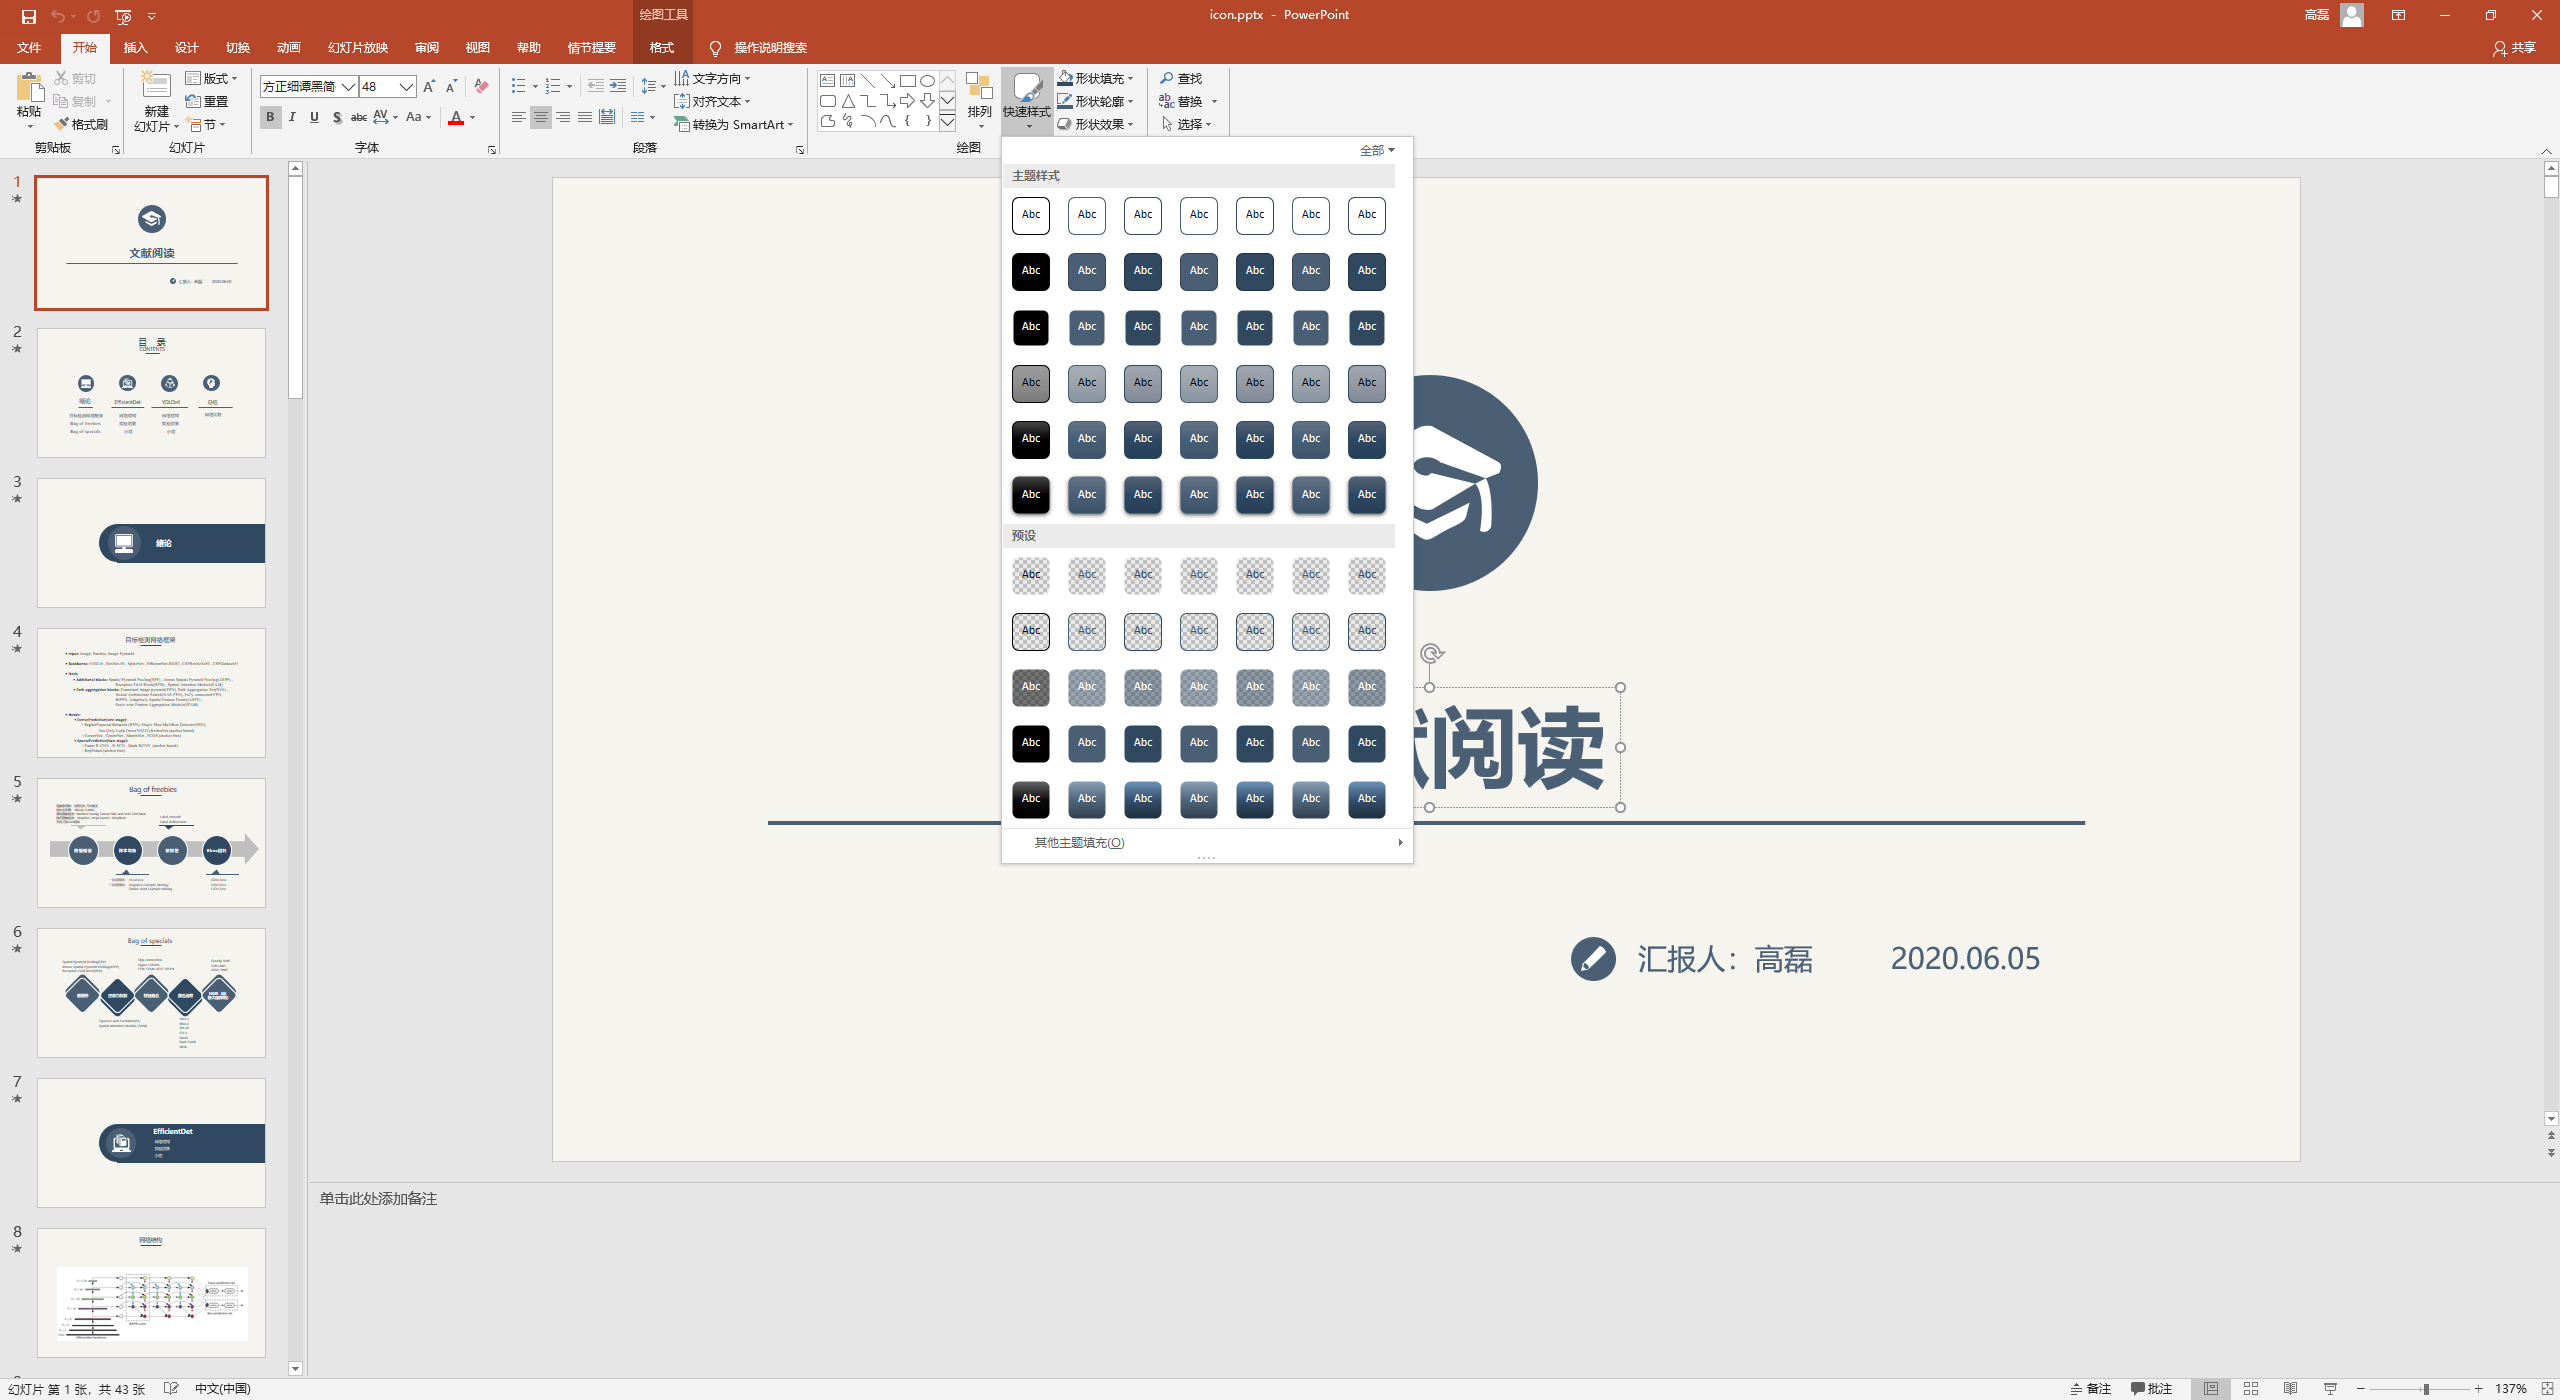character: (1634, 941, 1819, 978), (1884, 940, 2058, 976), (1207, 5, 1357, 24), (5, 1379, 150, 1398), (317, 1186, 440, 1207), (1033, 834, 1127, 852), (733, 36, 814, 55), (695, 117, 784, 133), (326, 40, 393, 59), (262, 79, 333, 97), (195, 1379, 259, 1398), (133, 105, 169, 133), (565, 36, 617, 55), (641, 3, 688, 24), (1008, 166, 1060, 183), (510, 36, 548, 59), (1076, 71, 1122, 86), (1077, 95, 1124, 109), (352, 140, 384, 159), (1002, 105, 1052, 117), (646, 38, 677, 57), (33, 140, 71, 155), (693, 72, 740, 84), (1076, 117, 1122, 129), (695, 95, 740, 107), (276, 36, 303, 55), (1010, 526, 1036, 545), (171, 41, 202, 57), (222, 40, 253, 55), (414, 40, 445, 55), (629, 140, 659, 155), (2494, 1381, 2527, 1395), (71, 91, 97, 109), (2305, 5, 2331, 22), (167, 141, 203, 153), (955, 140, 983, 155), (465, 40, 491, 55), (1177, 71, 1203, 86), (2148, 1383, 2176, 1397), (72, 121, 109, 131), (1177, 117, 1202, 133), (2513, 40, 2538, 55), (2088, 1381, 2112, 1397), (14, 41, 43, 53), (121, 41, 148, 53), (1177, 95, 1202, 109), (72, 41, 98, 53), (1358, 145, 1384, 157), (203, 71, 226, 84), (72, 72, 97, 84), (205, 95, 228, 107), (16, 105, 41, 116), (967, 105, 991, 116), (10, 621, 26, 636), (10, 924, 26, 938), (362, 81, 379, 93), (405, 110, 421, 122), (12, 772, 24, 788), (12, 472, 22, 490), (10, 324, 24, 336), (10, 1224, 22, 1238), (12, 1072, 22, 1088), (10, 176, 24, 186), (207, 117, 215, 129)
icon: (36, 624, 271, 753), (36, 779, 271, 909), (36, 926, 271, 1055), (29, 1229, 264, 1359), (34, 476, 267, 605), (36, 1078, 271, 1205), (34, 178, 267, 305), (34, 328, 267, 455), (1410, 428, 1500, 545), (1286, 471, 1334, 521), (1229, 472, 1279, 521), (1341, 472, 1389, 521), (1172, 472, 1221, 521), (1119, 472, 1165, 521), (1064, 472, 1110, 521), (1288, 776, 1334, 822), (1008, 474, 1053, 521), (1064, 778, 1110, 822), (1119, 778, 1165, 822), (1231, 778, 1277, 822), (1343, 360, 1388, 405), (1233, 360, 1277, 405), (1121, 360, 1165, 405), (1288, 609, 1333, 653), (1176, 609, 1221, 653), (1233, 609, 1277, 653), (1065, 721, 1110, 766), (1343, 778, 1388, 822), (1176, 778, 1221, 822), (1289, 360, 1333, 405), (1177, 360, 1221, 405), (1064, 360, 1108, 403), (1008, 553, 1053, 597), (1343, 666, 1388, 709), (1065, 609, 1108, 653), (1343, 722, 1388, 766), (1233, 666, 1277, 709), (1121, 609, 1164, 653), (1343, 553, 1388, 597), (1121, 722, 1165, 766), (1064, 666, 1108, 709), (1233, 722, 1277, 766), (1288, 553, 1333, 597), (1121, 666, 1165, 709), (1233, 553, 1277, 597), (1064, 553, 1108, 597), (1176, 553, 1221, 597), (1010, 610, 1053, 653), (1345, 610, 1388, 653), (1289, 666, 1333, 709), (1177, 666, 1221, 709), (1177, 722, 1221, 766), (1289, 722, 1333, 766), (1345, 417, 1388, 460), (1177, 417, 1221, 460), (1289, 417, 1333, 460), (1121, 553, 1164, 597), (1064, 195, 1108, 236), (1008, 667, 1053, 709), (1121, 417, 1165, 459), (1008, 195, 1052, 236), (1010, 362, 1053, 403), (1289, 195, 1333, 236), (1345, 195, 1388, 236), (1233, 195, 1276, 236), (1176, 195, 1219, 236), (1121, 195, 1164, 236), (1233, 419, 1276, 460), (1065, 417, 1108, 459), (1010, 779, 1053, 821), (1233, 309, 1277, 348), (1010, 722, 1052, 764), (1289, 309, 1333, 348), (1065, 252, 1108, 291), (1121, 252, 1164, 291), (1008, 724, 1052, 764), (1231, 253, 1276, 291), (1345, 309, 1386, 348), (1122, 309, 1164, 348), (1345, 252, 1386, 291), (1289, 252, 1331, 291), (1177, 309, 1219, 348), (1177, 252, 1219, 291), (1067, 309, 1108, 348), (1010, 419, 1052, 459), (1010, 252, 1050, 291), (1010, 309, 1052, 347), (1008, 71, 1045, 103), (140, 67, 172, 98), (16, 71, 47, 103), (965, 71, 995, 100), (1577, 943, 1607, 972), (2276, 1374, 2303, 1400), (2236, 1376, 2262, 1400), (2196, 1378, 2224, 1398), (2339, 3, 2363, 26), (1419, 643, 1445, 664), (259, 107, 283, 128), (529, 107, 552, 128), (396, 76, 415, 97), (17, 7, 38, 26), (114, 7, 133, 28), (607, 76, 628, 95), (671, 67, 691, 86), (509, 74, 528, 95), (584, 76, 605, 95), (545, 74, 564, 95), (347, 109, 369, 126), (283, 107, 302, 126), (328, 109, 347, 128), (305, 109, 324, 128), (371, 107, 390, 126), (576, 107, 595, 126), (672, 114, 691, 133), (446, 109, 465, 128), (640, 76, 659, 95), (1055, 67, 1074, 86), (52, 66, 69, 86), (183, 69, 202, 86), (183, 91, 202, 109), (672, 91, 691, 109), (509, 109, 528, 126), (628, 107, 646, 124), (596, 109, 615, 126), (819, 91, 838, 109), (852, 72, 871, 90), (1055, 91, 1074, 109), (2491, 40, 2508, 59), (472, 78, 490, 95), (840, 91, 857, 109), (898, 72, 915, 90), (898, 91, 915, 109), (879, 72, 896, 90), (859, 72, 876, 90), (819, 112, 836, 129), (1158, 69, 1176, 86), (1158, 114, 1176, 131), (1157, 91, 1174, 109), (2389, 5, 2407, 22), (2527, 5, 2544, 22), (162, 1379, 179, 1397), (2539, 1379, 2557, 1397), (338, 78, 357, 93), (84, 9, 102, 24), (48, 9, 66, 24), (553, 109, 571, 124), (919, 91, 934, 109), (819, 71, 834, 88), (859, 112, 876, 128), (857, 91, 872, 109), (940, 90, 955, 107), (1057, 116, 1072, 133), (2482, 5, 2500, 21), (2129, 1381, 2146, 1397), (2322, 1379, 2338, 1397), (286, 160, 302, 176), (443, 79, 459, 95), (919, 72, 934, 88), (877, 112, 893, 128), (840, 112, 855, 128), (940, 114, 955, 129), (9, 490, 24, 505), (9, 790, 24, 805), (1612, 740, 1627, 755), (9, 1240, 24, 1255), (2069, 1381, 2084, 1397), (2353, 1381, 2369, 1397), (53, 116, 71, 129), (188, 116, 202, 133), (709, 40, 722, 57), (840, 72, 857, 86), (52, 93, 67, 107), (422, 78, 436, 93), (900, 112, 914, 128), (940, 71, 953, 86), (1022, 119, 1038, 133), (876, 91, 890, 107), (2438, 7, 2451, 22), (2539, 145, 2555, 159), (1393, 834, 1403, 855), (9, 940, 22, 955), (2544, 1110, 2558, 1126), (2419, 1381, 2432, 1397), (422, 110, 434, 128), (102, 93, 116, 107), (9, 190, 22, 203), (9, 341, 22, 355), (145, 9, 159, 22), (9, 641, 22, 655), (1614, 681, 1627, 695), (1614, 800, 1627, 814), (288, 1360, 302, 1374), (9, 1090, 22, 1103), (217, 116, 229, 131), (922, 112, 934, 128), (67, 9, 79, 22), (22, 117, 36, 129), (465, 110, 478, 124), (974, 119, 988, 131), (1126, 95, 1138, 109), (2544, 160, 2557, 174), (1422, 802, 1436, 814), (110, 143, 122, 155), (486, 143, 498, 155), (1208, 95, 1221, 107), (1422, 681, 1434, 693), (2472, 1383, 2484, 1395), (229, 71, 240, 84), (171, 117, 181, 131), (529, 81, 540, 95), (646, 110, 657, 124), (391, 109, 400, 124), (786, 117, 796, 129), (1126, 72, 1136, 84), (1126, 117, 1136, 129), (2546, 1147, 2557, 1159), (2546, 1128, 2557, 1140), (745, 95, 752, 110), (1386, 145, 1396, 155), (795, 145, 807, 153), (743, 72, 752, 84), (565, 83, 576, 91), (1203, 119, 1212, 129), (660, 83, 665, 91)
